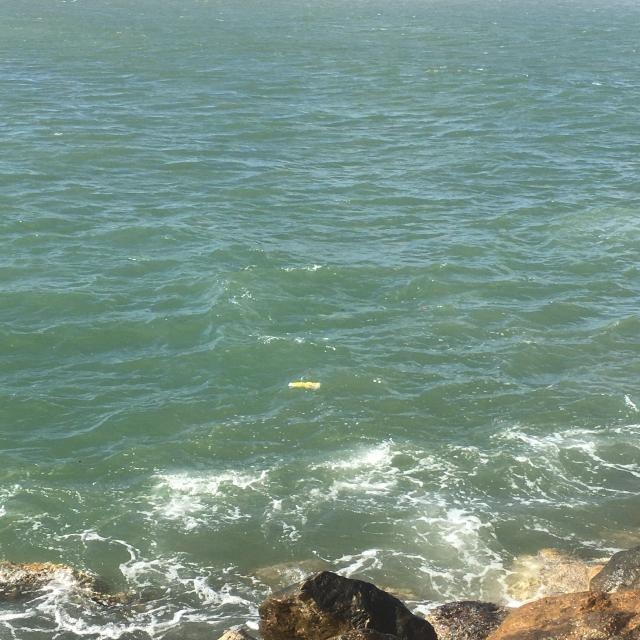Plastic bottle: (286, 380, 324, 392)
